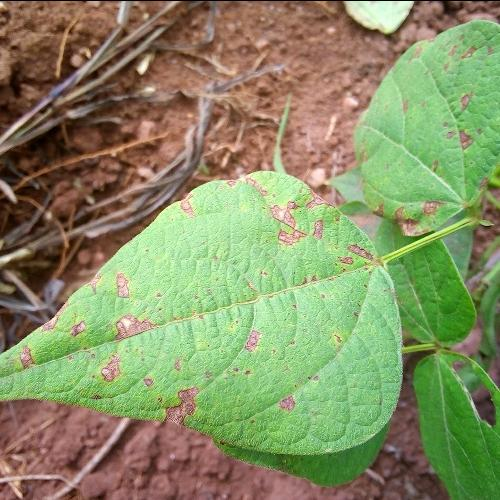hawar: (0, 239, 215, 390), (160, 173, 326, 252), (149, 345, 235, 438), (347, 177, 437, 253), (324, 227, 392, 286), (269, 370, 320, 427), (236, 310, 281, 367)
